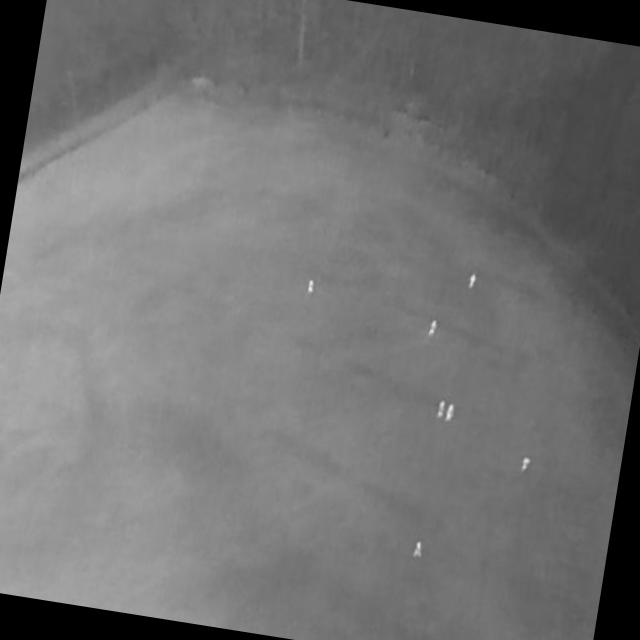person: (443, 404, 456, 425), (436, 401, 448, 422), (412, 542, 425, 561), (427, 319, 438, 339), (520, 456, 531, 472), (468, 274, 478, 291), (307, 278, 316, 296)
